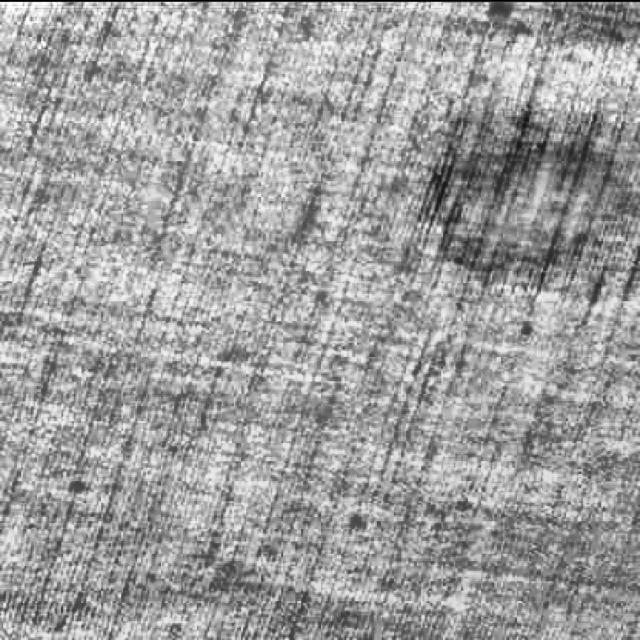oil_spot: (382, 104, 640, 318)
